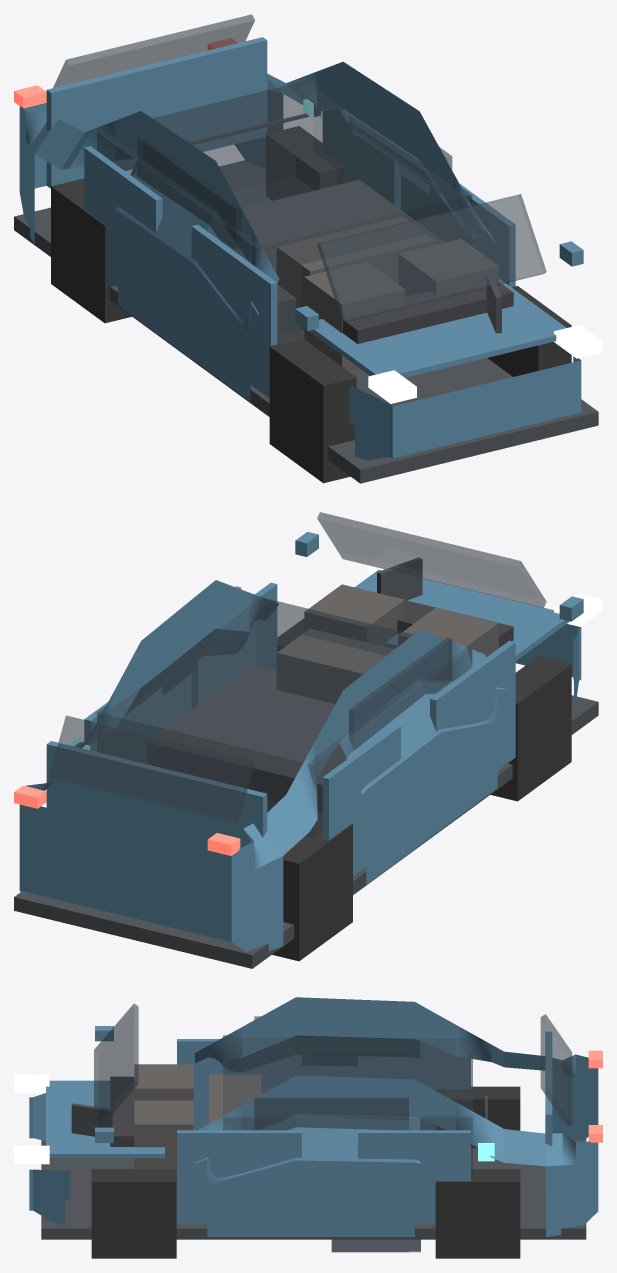
File: compact_crossover.91dca7ed60.glb
3 views of the same model, one above another, from view 1: azimuth 30°, elevation 25°; view 2: azimuth 150°, elevation 25°; view 3: azimuth 270°, elevation 25° (orthographic). The views are drawn at different scales.
Visible parts, largest first — view 1: body_mesh, cab_mesh, windshield, liftgate_mesh, trim_mesh, tire_fr, frunk_mesh, wheel_well_mesh, tire_rr, seat_rear, door_fr_mesh, seat_r (+13 smaller); view 2: body_mesh, cab_mesh, wheel_well_mesh, liftgate_mesh, rear_glass, windshield, tire_rr, trim_mesh, tire_fr, seat_rear, door_fr_mesh, door_rr_mesh (+12 smaller); view 3: body_mesh, cab_mesh, tire_fl, trim_mesh, tire_rl, door_fl_mesh, door_rl_mesh, window_fixed_l, frunk_mesh, windshield, door_rr_mesh, seat_l (+13 smaller).
Part boxes in pixels (bbox=[...]): body_mesh: bbox=[19, 61, 581, 460]; cab_mesh: bbox=[97, 80, 472, 335]; windshield: bbox=[317, 194, 546, 322]; liftgate_mesh: bbox=[46, 37, 267, 188]; trim_mesh: bbox=[14, 160, 598, 483]; tire_fr: bbox=[269, 338, 356, 483]; frunk_mesh: bbox=[309, 279, 566, 377]; wheel_well_mesh: bbox=[241, 180, 444, 343]; tire_rr: bbox=[51, 178, 131, 323]; seat_rear: bbox=[276, 216, 435, 329]; door_fr_mesh: bbox=[191, 224, 277, 398]; seat_r: bbox=[304, 262, 404, 371]; body_mesh: bbox=[19, 580, 581, 951]; cab_mesh: bbox=[97, 597, 472, 837]; wheel_well_mesh: bbox=[147, 665, 346, 816]; liftgate_mesh: bbox=[46, 741, 267, 847]; rear_glass: bbox=[49, 715, 254, 822]; windshield: bbox=[317, 512, 546, 607]; tire_rr: bbox=[272, 816, 352, 961]; trim_mesh: bbox=[14, 695, 598, 968]; tire_fr: bbox=[490, 656, 571, 801]; seat_rear: bbox=[276, 629, 394, 703]; door_fr_mesh: bbox=[430, 640, 515, 770]; door_rr_mesh: bbox=[322, 725, 400, 876]; body_mesh: bbox=[29, 997, 598, 1237]; cab_mesh: bbox=[223, 1035, 472, 1175]; tire_fl: bbox=[91, 1169, 176, 1258]; trim_mesh: bbox=[41, 1138, 586, 1239]; tire_rl: bbox=[435, 1169, 520, 1258]; door_fl_mesh: bbox=[177, 1130, 301, 1223]; door_rl_mesh: bbox=[358, 1130, 470, 1223]; window_fixed_l: bbox=[254, 1097, 408, 1130]; frunk_mesh: bbox=[46, 1080, 164, 1158]; windshield: bbox=[94, 1003, 138, 1127]; door_rr_mesh: bbox=[358, 1042, 470, 1129]; seat_l: bbox=[134, 1100, 193, 1178].
Size of the model in its own units: 2.11 by 1.99 by 4.95.
